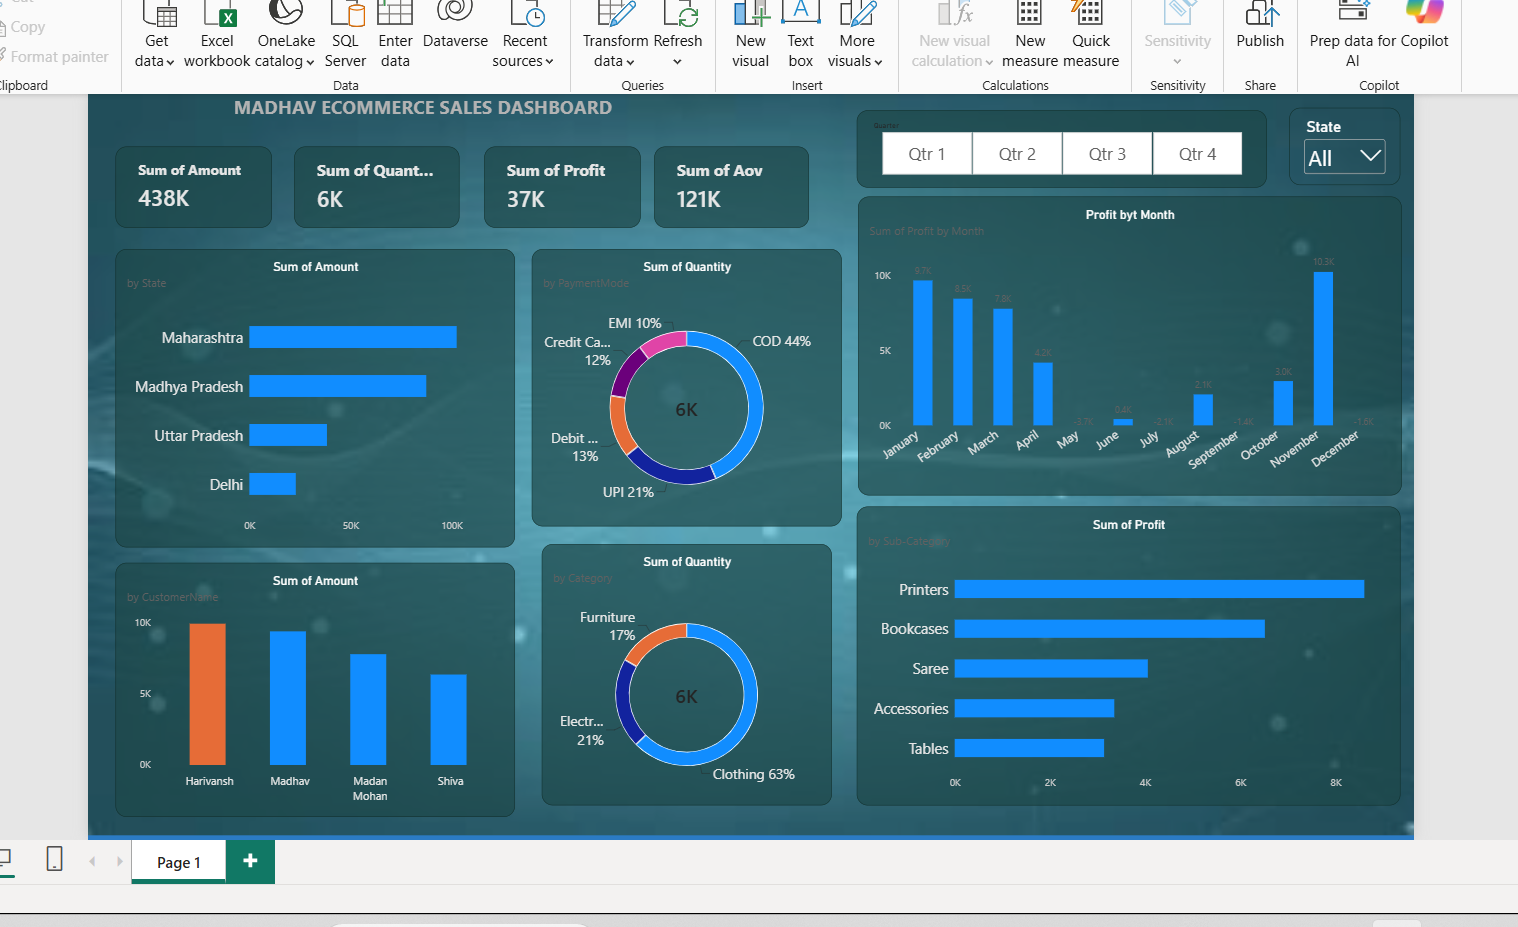

The page's visual inventory and layout, read from the dashboard file:
{"tool":"powerbi","page":{"name":"Page 1","canvas":[1920,1080],"ordinal":0},"visuals":[{"type":"textbox","box":[10.9,0,948.3,76],"z":0},{"type":"columnChart","title":"Profit byt Month","fields":{"Category":["Orders.Order Date.Variation.Date Hierarchy.Month"],"Y":["Sum(Details.Profit)"]},"box":[1114.8,148.4,787.2,432.5],"z":1000},{"type":"barChart","fields":{"Category":["Details.Sub-Category"],"Y":["Sum(Details.Profit)"]},"box":[1112.9,597.2,787.2,432.5],"z":2000},{"type":"donutChart","fields":{"Category":["Details.Category"],"Y":["Sum(Details.Quantity)"]},"box":[656.9,651.5,419.8,378.2],"z":3000},{"type":"donutChart","fields":{"Category":["Details.PaymentMode"],"Y":["Sum(Details.Quantity)"]},"box":[642.2,224.4,448.8,401.7],"z":4000},{"type":"cardVisual","fields":{"Data":["Sum(Details.Amount)"]},"box":[39.8,76,226.2,117.6],"z":5000},{"type":"cardVisual","fields":{"Data":["Sum(Details.Quantity)"]},"box":[298.6,76,238.9,117.6],"z":6000},{"type":"cardVisual","fields":{"Data":["Sum(Details.Profit)"]},"box":[573.7,76,226.2,117.6],"z":7000},{"type":"cardVisual","fields":{"Data":["Sum(aov.Aov)"]},"box":[819.8,76,224.4,117.6],"z":8000},{"type":"barChart","fields":{"Category":["Orders.State"],"Y":["Sum(aov.Amount)"]},"box":[39.1,224.4,578.4,432.2],"z":9000},{"type":"columnChart","fields":{"Category":["Orders.CustomerName"],"Y":["Sum(aov.Amount)"]},"box":[39.1,679.2,578,368],"z":10000},{"type":"slicer","fields":{"Values":["Orders.Order Date.Variation.Date Hierarchy.Quarter"]},"box":[1112.9,23.5,593.6,112.2],"z":11000},{"type":"slicer","fields":{"Values":["Orders.State"]},"box":[1739.1,19.9,161.1,112.2],"z":12000}]}

Visuals, with their boxes on the page's 1920x1080 design canvas (x1, y1, x2, y2). These are canvas units, not pixel positions in the 1518x927 screenshot, which may show the page scaled, cropped or inside an application window:
textbox: (x1=11, y1=0, x2=959, y2=76)
"Profit byt Month" columnChart: (x1=1115, y1=148, x2=1902, y2=581)
barChart - Details.Sub-Category x Sum(Details.Profit): (x1=1113, y1=597, x2=1900, y2=1030)
donutChart - Details.Category x Sum(Details.Quantity): (x1=657, y1=652, x2=1077, y2=1030)
donutChart - Details.PaymentMode x Sum(Details.Quantity): (x1=642, y1=224, x2=1091, y2=626)
cardVisual - Sum(Details.Amount): (x1=40, y1=76, x2=266, y2=194)
cardVisual - Sum(Details.Quantity): (x1=299, y1=76, x2=538, y2=194)
cardVisual - Sum(Details.Profit): (x1=574, y1=76, x2=800, y2=194)
cardVisual - Sum(aov.Aov): (x1=820, y1=76, x2=1044, y2=194)
barChart - Orders.State x Sum(aov.Amount): (x1=39, y1=224, x2=618, y2=657)
columnChart - Orders.CustomerName x Sum(aov.Amount): (x1=39, y1=679, x2=617, y2=1047)
slicer - Orders.Order Date.Variation.Date Hierarchy.Quarter: (x1=1113, y1=24, x2=1706, y2=136)
slicer - Orders.State: (x1=1739, y1=20, x2=1900, y2=132)
